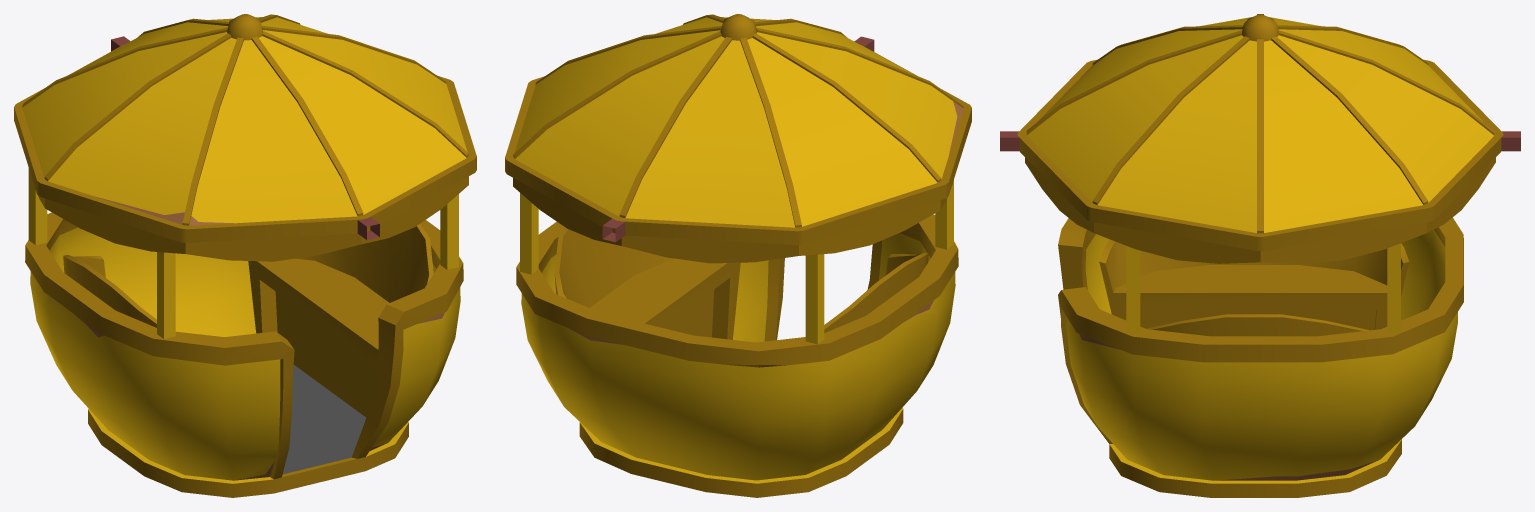
The model's file is SM_Props_Park_02_Cabin_06.fbx.
The picture shows the model from 3 angles, left to right: view 1: azimuth 30°, elevation 25°; view 2: azimuth 150°, elevation 25°; view 3: azimuth 270°, elevation 25°; orthographic projection.
Parts seen in each view (by area): view 1: SM_Props_Park_02_Cabin_06; view 2: SM_Props_Park_02_Cabin_06; view 3: SM_Props_Park_02_Cabin_06.
Boxes of the visible parts, left/top/right/bottom form: SM_Props_Park_02_Cabin_06: left=14, top=14, right=476, bottom=497; SM_Props_Park_02_Cabin_06: left=505, top=14, right=971, bottom=497; SM_Props_Park_02_Cabin_06: left=1000, top=14, right=1520, bottom=497.
Size of the model in its own units: 3.17 by 3.02 by 3.4.
